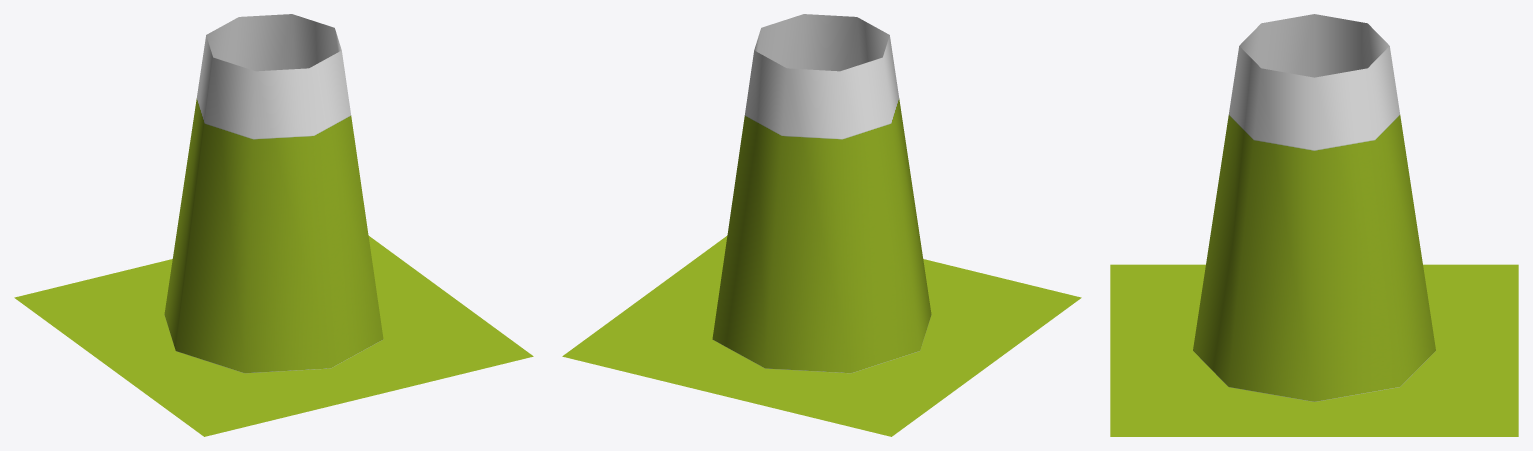
The model's file is LightGreenFinal.fbx.
3 renders of one model, left to right at view 1: azimuth 30°, elevation 25°; view 2: azimuth 150°, elevation 25°; view 3: azimuth 270°, elevation 25°, orthographic. The views are drawn at different scales.
Visible parts, largest first — view 1: Cylinder, Circle; view 2: Cylinder, Circle; view 3: Cylinder, Circle.
Boxes of the visible parts, left/top/right/bottom form: Cylinder: left=164, top=14, right=383, bottom=373; Circle: left=14, top=236, right=533, bottom=436; Cylinder: left=712, top=14, right=931, bottom=373; Circle: left=562, top=236, right=1081, bottom=436; Cylinder: left=1193, top=14, right=1435, bottom=401; Circle: left=1110, top=264, right=1518, bottom=436.
Size of the model in its own units: 336 by 277 by 336.
